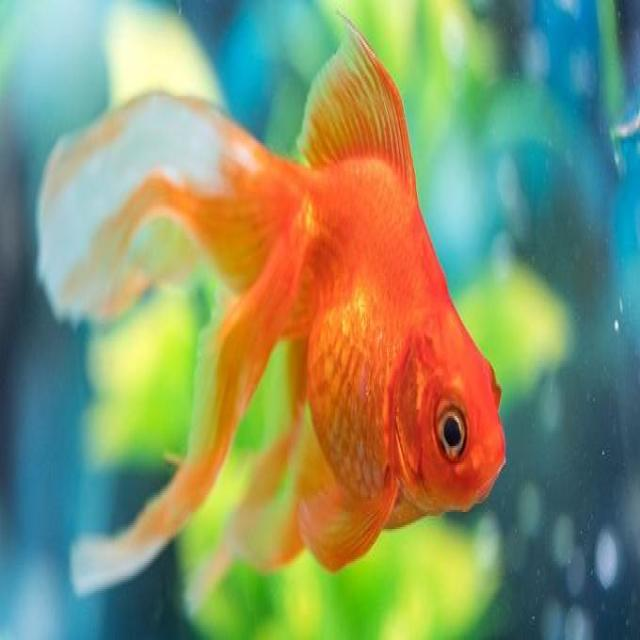GoldFish: (34, 28, 510, 574)
